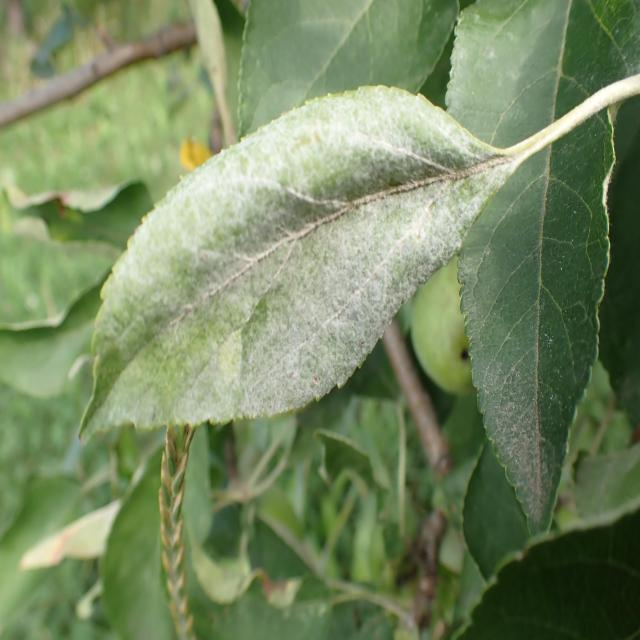Powdery_mildew: (82, 84, 526, 436)
